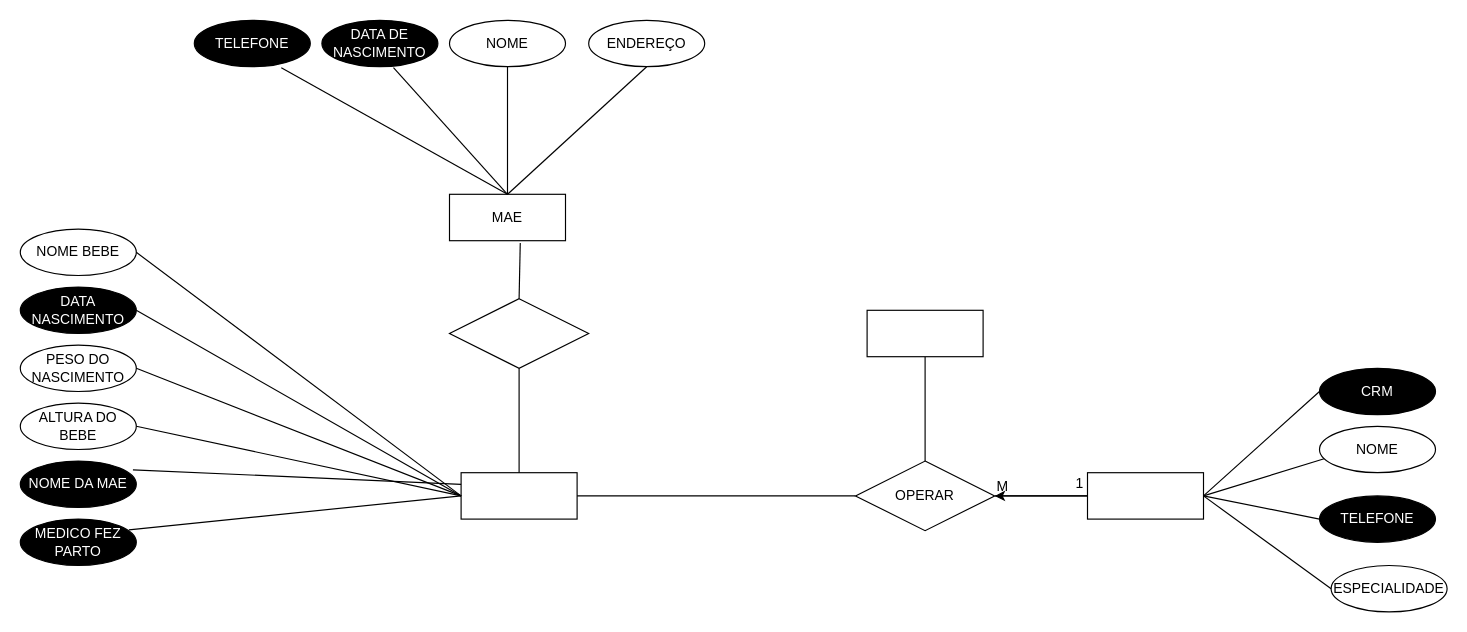
This 1467x632 diagram has some shape labels left out. The centre of each missing label's shape, as x and y in pixels:
"MEDICO" goes at pixel 1145 495.
"NASCER" goes at pixel 518 333.
"PACIENTE" goes at pixel 518 495.
"SALA DE OPERAÇAO" goes at pixel 924 333.
